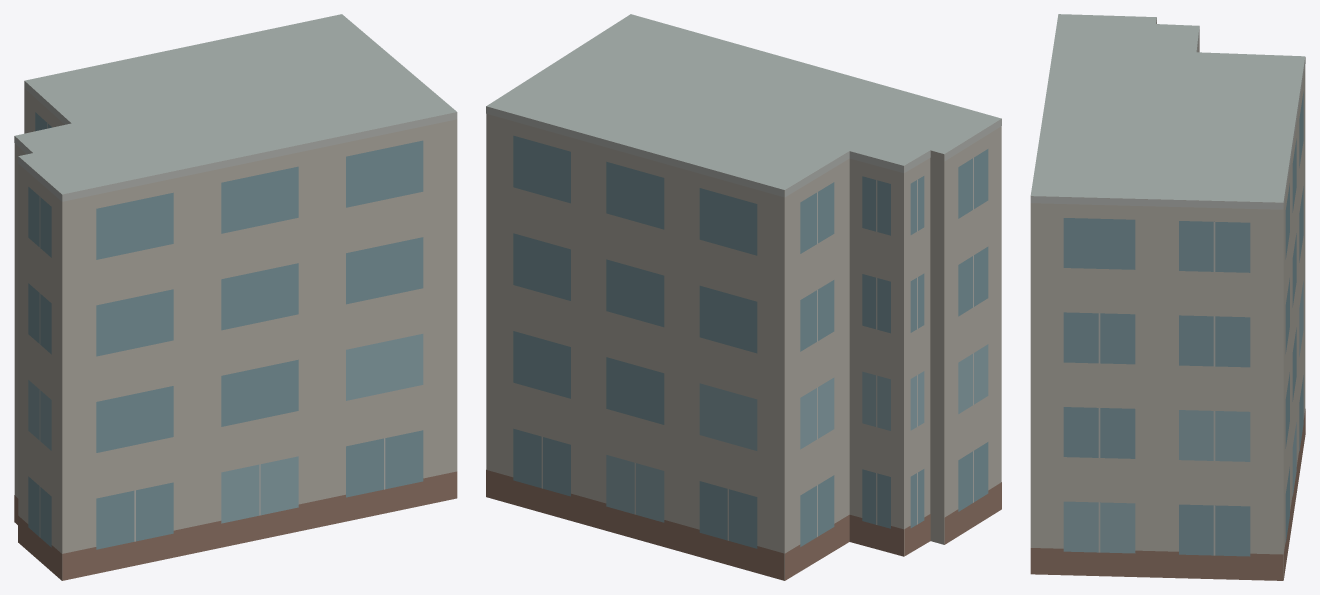
File: survey-upis-32811508.glb
3 views of the same model, side by side, from view 1: azimuth 30°, elevation 25°; view 2: azimuth 150°, elevation 25°; view 3: azimuth 270°, elevation 25° (orthographic). The views are drawn at different scales.
Parts seen in each view (by area): view 1: survey-upis-32811508.tmp; view 2: survey-upis-32811508.tmp; view 3: survey-upis-32811508.tmp.
Part boxes in pixels (bbox=[...]): survey-upis-32811508.tmp: bbox=[14, 14, 457, 580]; survey-upis-32811508.tmp: bbox=[486, 14, 1001, 580]; survey-upis-32811508.tmp: bbox=[1030, 14, 1305, 580].
Size of the model in its own units: 13.78 by 12.87 by 8.49.
